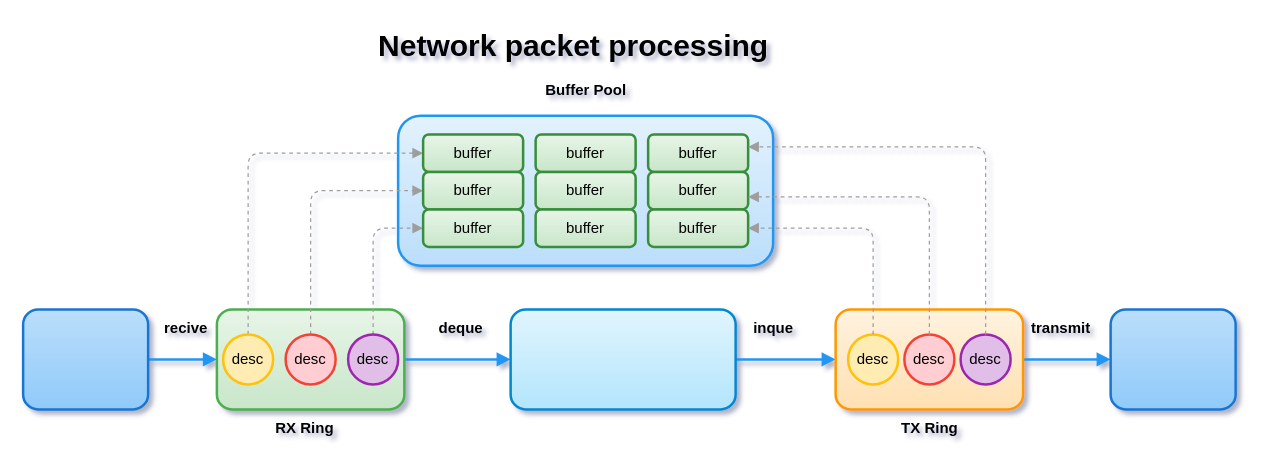
Some shapes in this 1265 by 475 pixel diagram are drawn without their labels. The shapes that lost their labels are listed below. From the top down, each one's centre as x and y in pixels, then its label:
At pixel 85 359: "NIC A".
At pixel 622 359: "application/processing".
At pixel 1172 359: "NIC B".
